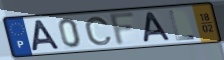0: (57, 17, 85, 50)
A: (31, 19, 62, 53), (143, 11, 173, 44)
C: (83, 16, 114, 47)
F: (108, 11, 138, 48)
L: (167, 10, 197, 42)
